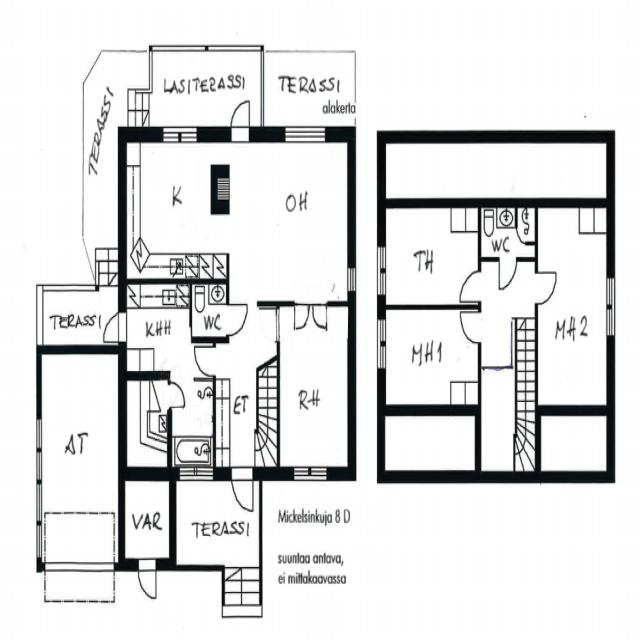door: (232, 466, 252, 516), (231, 94, 249, 141), (137, 562, 156, 606), (100, 309, 126, 341), (226, 304, 248, 335), (535, 271, 556, 303), (460, 270, 481, 300), (311, 298, 328, 334), (499, 256, 516, 292), (196, 347, 216, 376), (460, 312, 480, 341), (295, 298, 311, 334), (167, 382, 187, 410)
